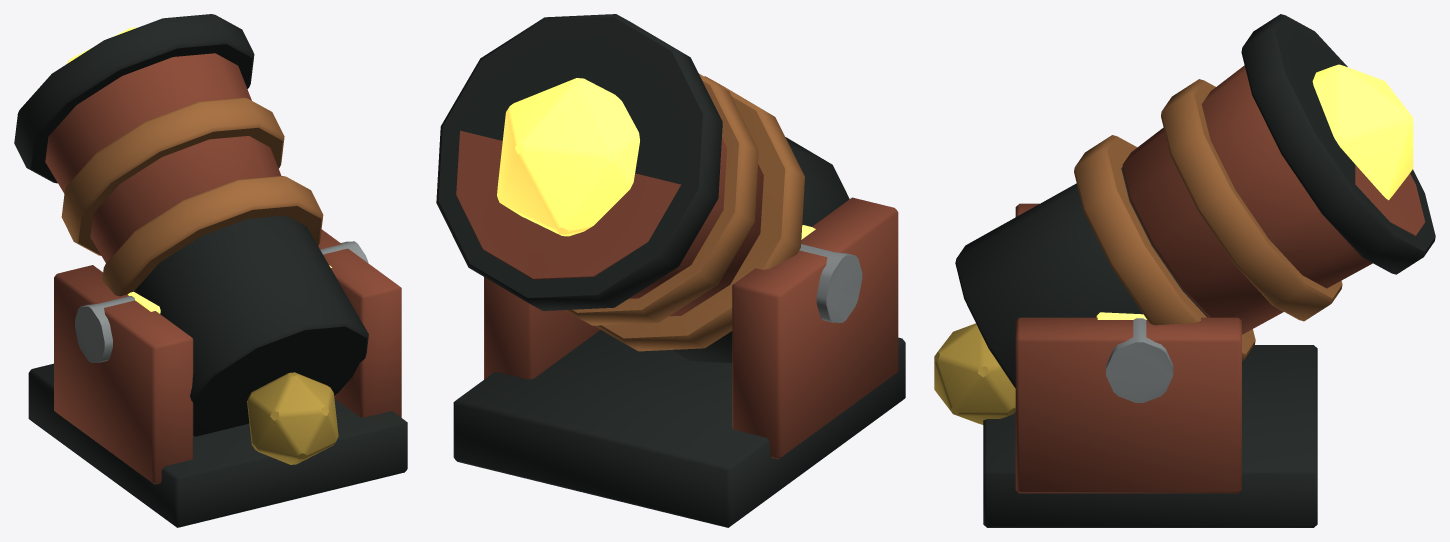
File: act_slag_mortar_pod.glb
3 views of the same model, side by side, from view 1: azimuth 30°, elevation 25°; view 2: azimuth 150°, elevation 25°; view 3: azimuth 270°, elevation 25° (orthographic). The views are drawn at different scales.
Visible parts, largest first — view 1: act_slag_mortar_pod_mesh; view 2: act_slag_mortar_pod_mesh; view 3: act_slag_mortar_pod_mesh.
Part boxes in pixels (x1,y1,x2,y2): act_slag_mortar_pod_mesh: (14, 14, 407, 527); act_slag_mortar_pod_mesh: (436, 14, 905, 527); act_slag_mortar_pod_mesh: (934, 14, 1435, 527).
Size of the model in its own units: 0.64 by 0.8921 by 0.9302.
